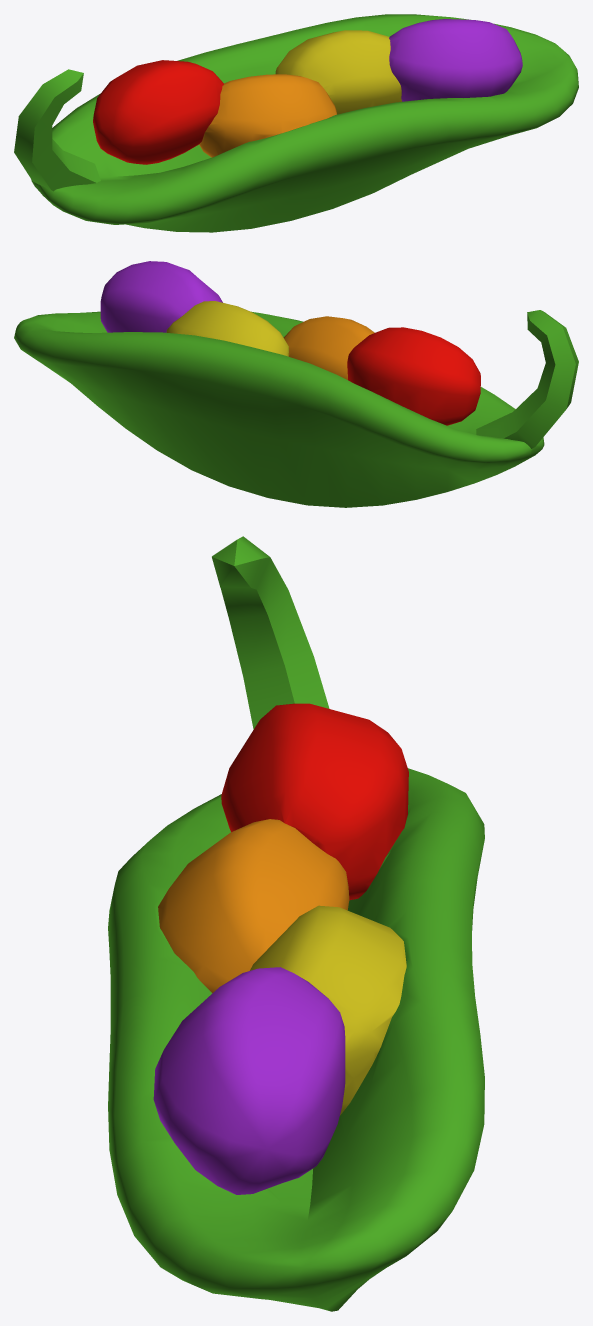
File: Gummy_Crop.glb
3 renders of one model, top to bottom at view 1: azimuth 30°, elevation 25°; view 2: azimuth 150°, elevation 25°; view 3: azimuth 270°, elevation 25°, orthographic. The views are drawn at different scales.
Parts seen in each view (by area): view 1: Gummy_Crop; view 2: Gummy_Crop; view 3: Gummy_Crop.
Part boxes in pixels (<box>): Gummy_Crop: <box>14,14,578,232</box>; Gummy_Crop: <box>14,261,578,507</box>; Gummy_Crop: <box>108,536,484,1311</box>.
Size of the model in its own units: 0.86 by 0.3443 by 0.2596.
